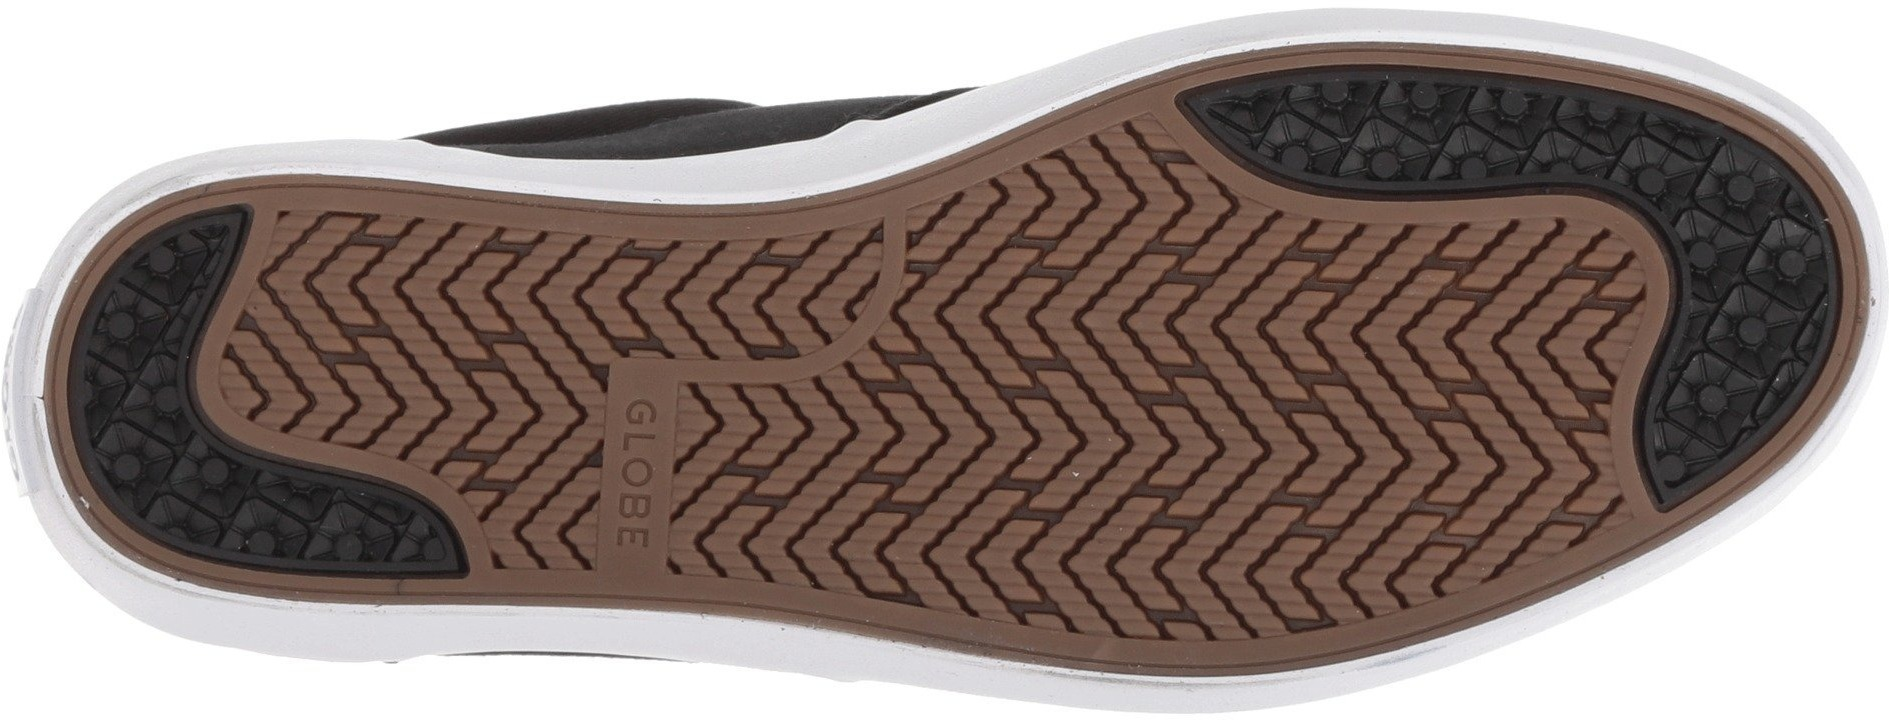chevron: (1282, 242, 1600, 543), (916, 252, 1196, 536), (301, 212, 536, 445), (681, 256, 913, 445)
quad: (1691, 223, 1834, 361), (1344, 78, 1457, 176)
text: (604, 478, 672, 545), (607, 399, 678, 460)
